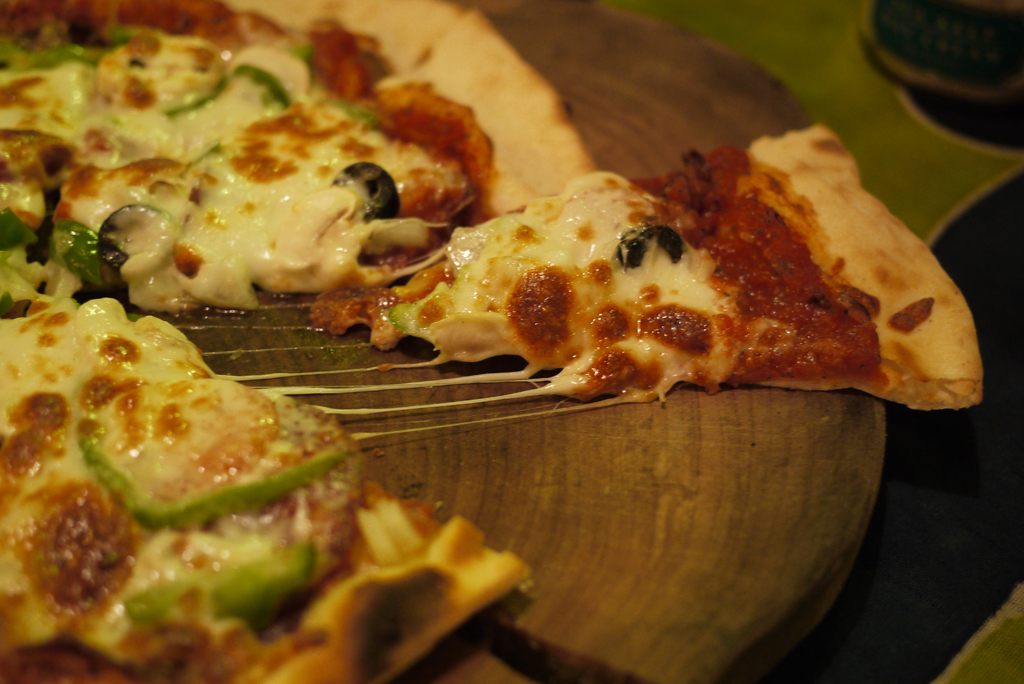Pizza: (0, 0, 597, 683), (306, 126, 981, 407)
